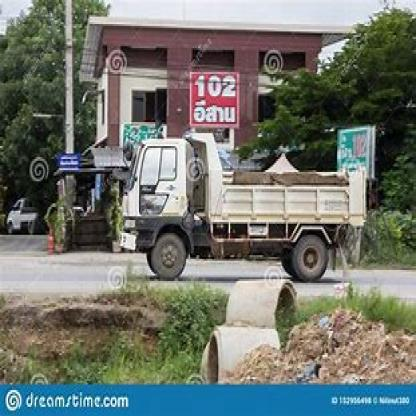dump_truck: (118, 120, 360, 274)
